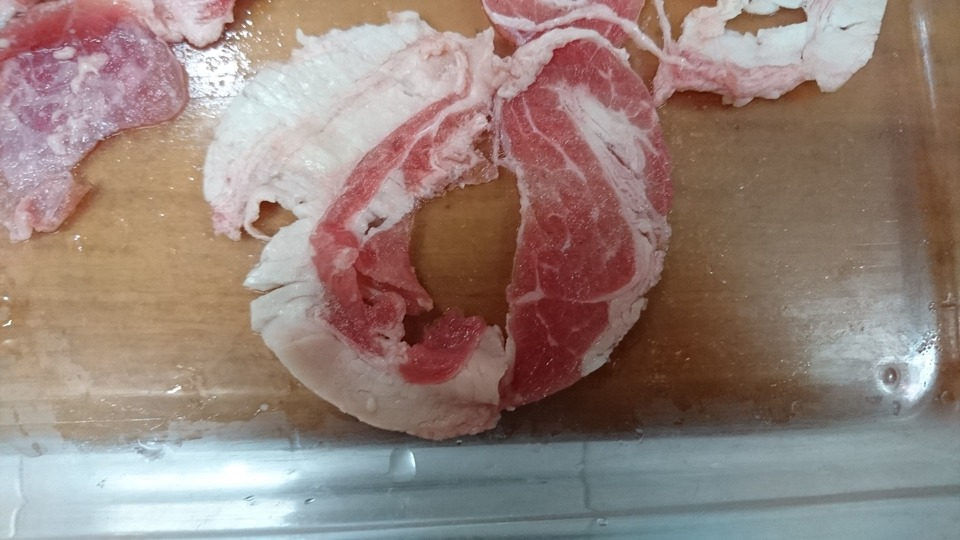restructured meat: (207, 18, 673, 436)
